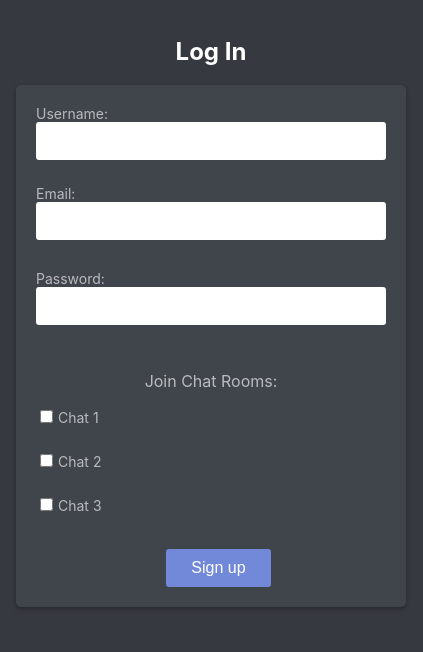
Scenario: Login › shows an error message for existing username or email
Type "existinguser" into the field labelled "Username:".
click(211, 142); type("existinguser")  # box [36,122,386,160]
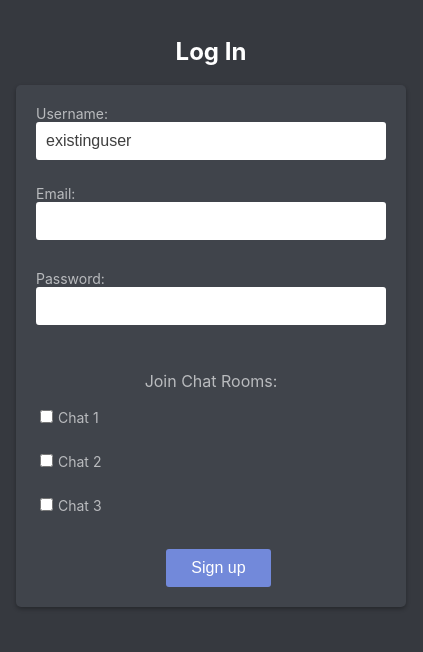
Type "existinguser@example.com" into the field labelled "Email:".
click(211, 222); type("existinguser@example.com")  # box [36,202,386,240]
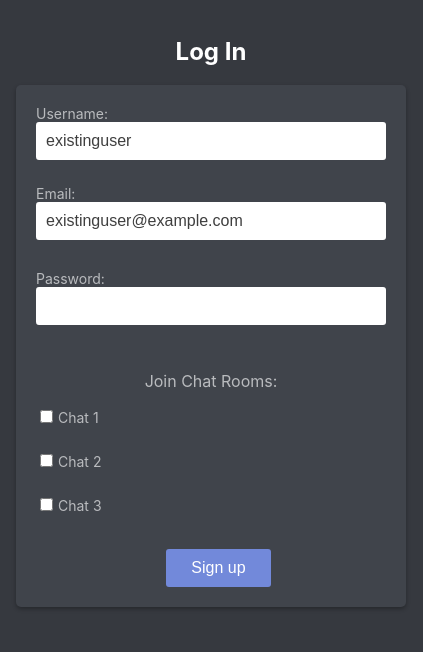
Type "testpassword" into the password field labelled "Password:".
click(211, 306); type("testpassword")  # box [36,288,386,326]
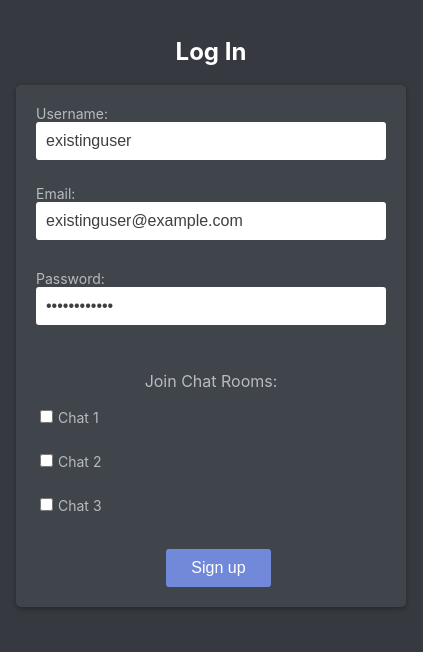
Click the button "Sign up".
click(218, 568)  # box [166,550,271,588]
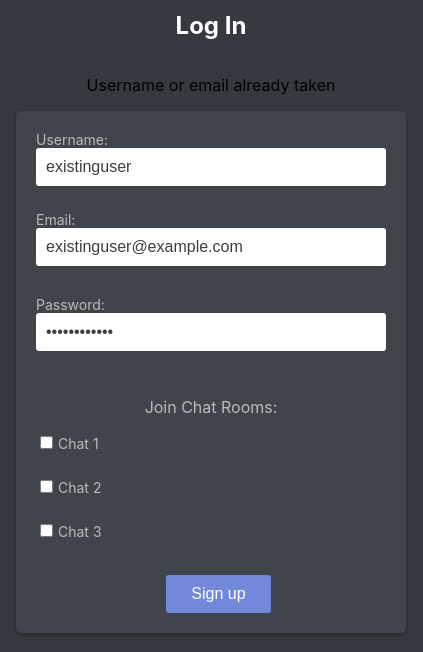
Expected: the text "Username or email already taken" is shown, [86,76,335,96]
